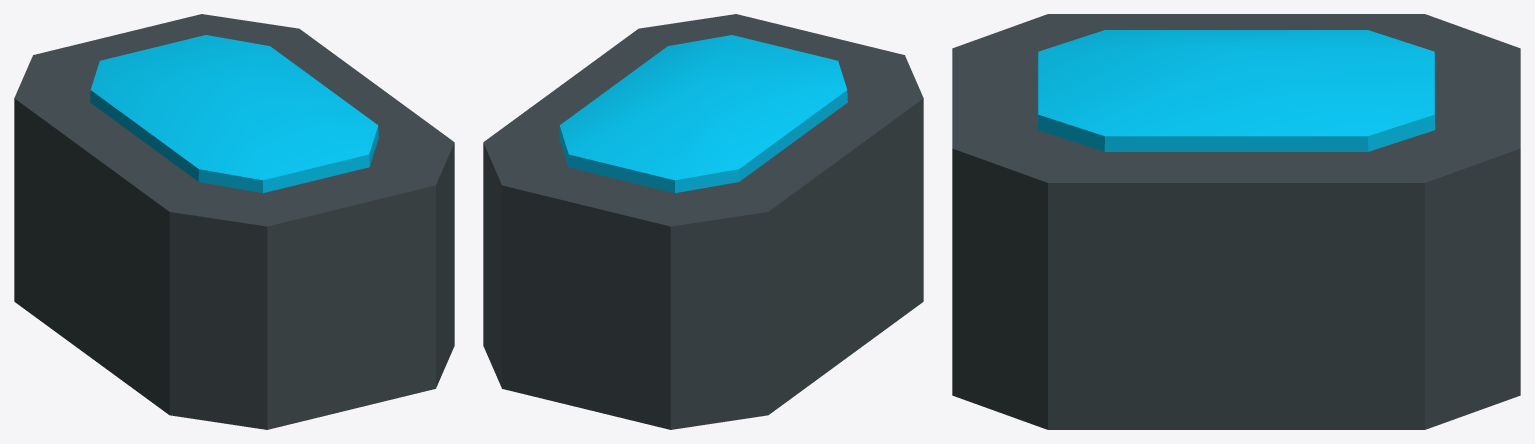
Rendered from Wall Light 01.FBX.
3 renders of one model, left to right at view 1: azimuth 30°, elevation 25°; view 2: azimuth 150°, elevation 25°; view 3: azimuth 270°, elevation 25°, orthographic. The views are drawn at different scales.
Parts seen in each view (by area): view 1: Wall Light 01; view 2: Wall Light 01; view 3: Wall Light 01.
Boxes of the visible parts, x1,y1,x2,y2 form: Wall Light 01: (14, 14, 454, 429); Wall Light 01: (483, 14, 923, 429); Wall Light 01: (952, 14, 1520, 429).
Bounding box in the file's own units: 21.52 × 17.53 × 30.62.
Materials: 1 (1 with a texture image).
